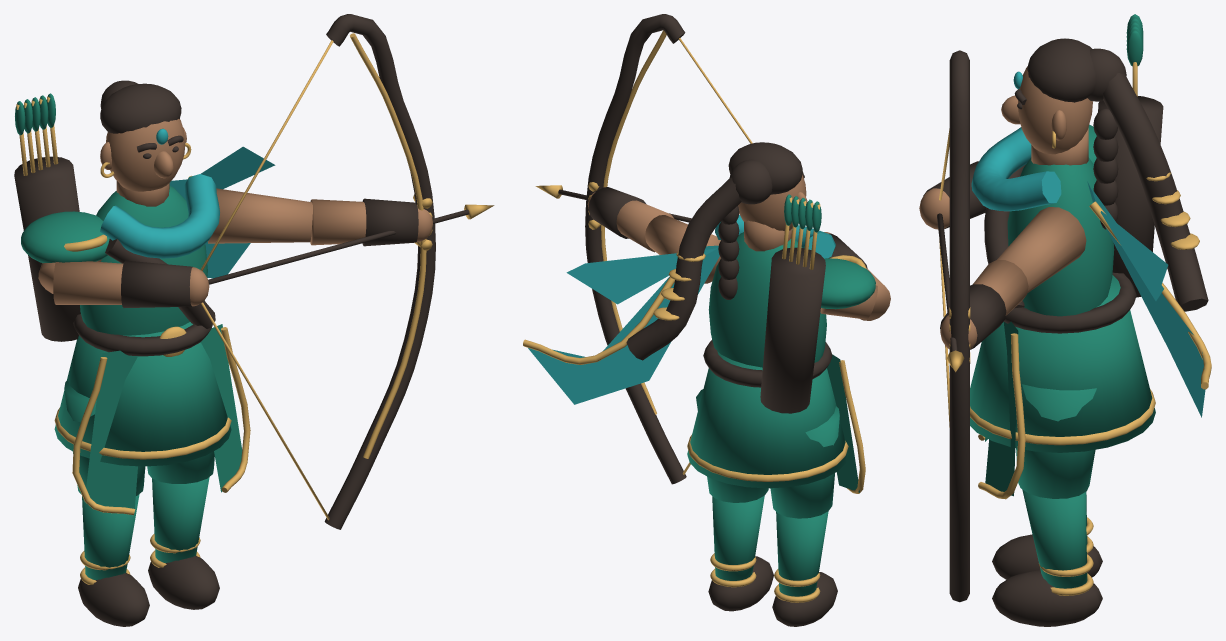
Rendered from tara.glb.
3 renders of one model, left to right at view 1: azimuth 30°, elevation 25°; view 2: azimuth 150°, elevation 25°; view 3: azimuth 270°, elevation 25°, orthographic. The views are drawn at different scales.
Visible parts, largest first — view 1: tara; view 2: tara; view 3: tara.
Boxes of the visible parts, x1,y1,x2,y2 form: tara: (14,14,494,626); tara: (523,14,890,626); tara: (919,14,1211,626).
Size of the model in its own units: 1.48 by 1.99 by 0.8266.
